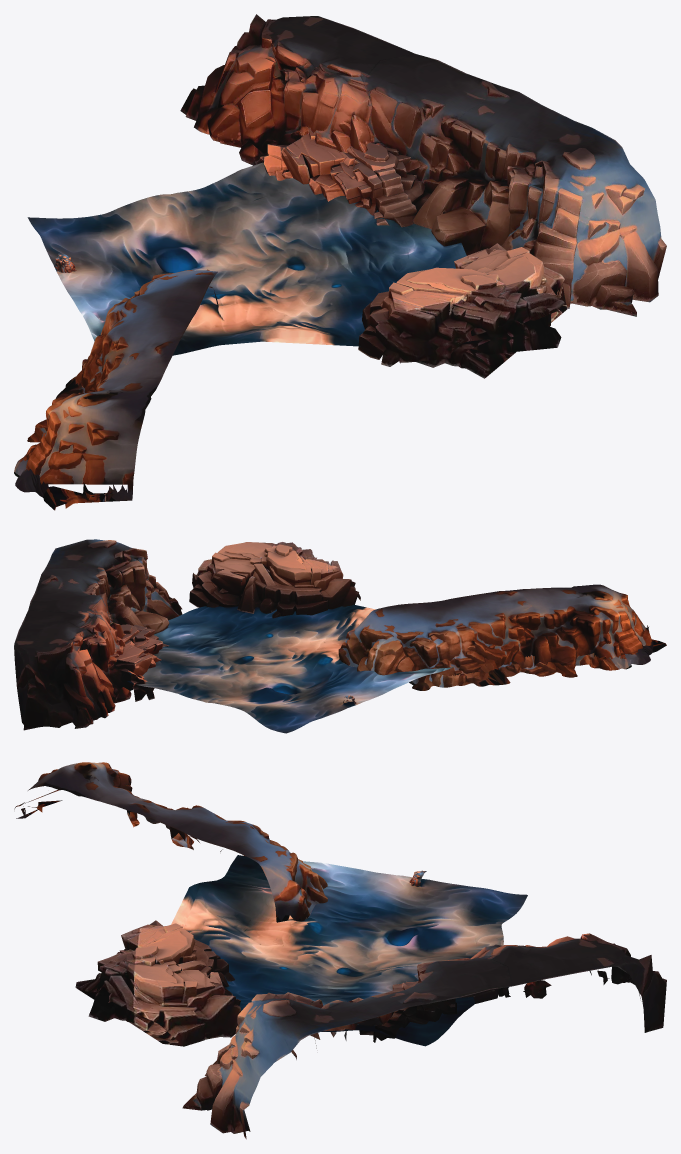
File: scena_06.glb
The picture shows the model from 3 angles, top to bottom: view 1: azimuth 30°, elevation 25°; view 2: azimuth 150°, elevation 25°; view 3: azimuth 270°, elevation 25°; orthographic projection. The views are drawn at different scales.
Parts seen in each view (by area): view 1: rock_02_scene_6, desert_scene_6, rock_00_scene_7, rock_04_scene_6, rock_01_scene_6, rock_03_scene_6; view 2: rock_00_scene_7, desert_scene_6, rock_02_scene_6, rock_04_scene_6, rock_03_scene_6, rock_01_scene_6; view 3: desert_scene_6, rock_02_scene_6, rock_00_scene_7, rock_03_scene_6, rock_04_scene_6, rock_01_scene_6.
Boxes of the visible parts, <box> form: rock_02_scene_6: <box>180,14,666,316</box>; desert_scene_6: <box>27,162,466,355</box>; rock_00_scene_7: <box>14,269,218,510</box>; rock_04_scene_6: <box>358,267,561,366</box>; rock_01_scene_6: <box>255,128,430,227</box>; rock_03_scene_6: <box>415,243,567,378</box>; rock_00_scene_7: <box>338,584,666,690</box>; desert_scene_6: <box>127,604,453,733</box>; rock_02_scene_6: <box>14,539,182,730</box>; rock_04_scene_6: <box>237,542,360,618</box>; rock_03_scene_6: <box>189,542,301,607</box>; rock_01_scene_6: <box>110,624,168,701</box>; desert_scene_6: <box>171,855,527,1046</box>; rock_02_scene_6: <box>182,933,666,1139</box>; rock_00_scene_7: <box>14,762,327,922</box>; rock_03_scene_6: <box>75,956,240,1046</box>; rock_04_scene_6: <box>88,920,234,1030</box>; rock_01_scene_6: <box>359,981,510,1042</box>.
Bounding box in the file's own units: 842 × 161 × 755.
Materials: 6 (6 with a texture image).
